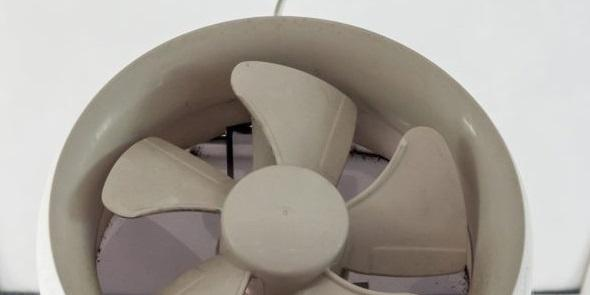fan: (49, 23, 521, 295)
